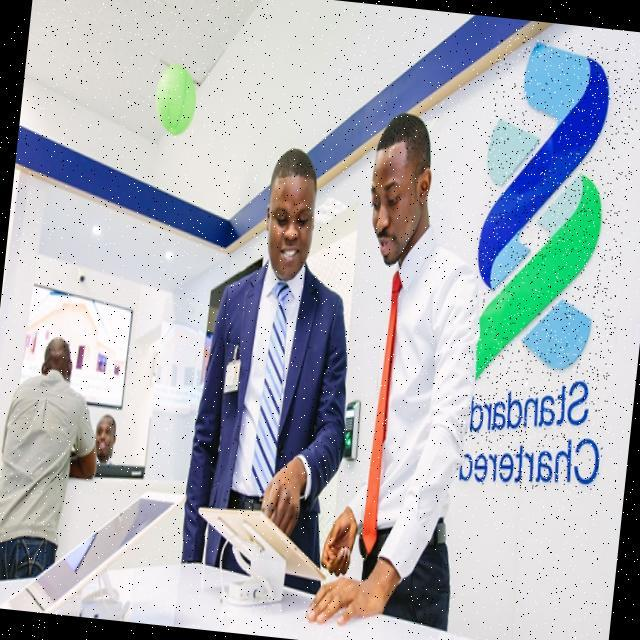Standard Chartered: (451, 34, 640, 497)
